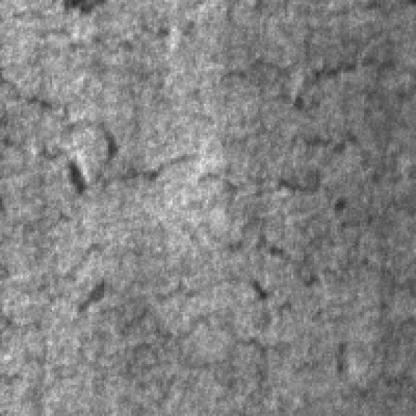crazing: (185, 56, 360, 154), (183, 162, 323, 283), (0, 68, 123, 196)
